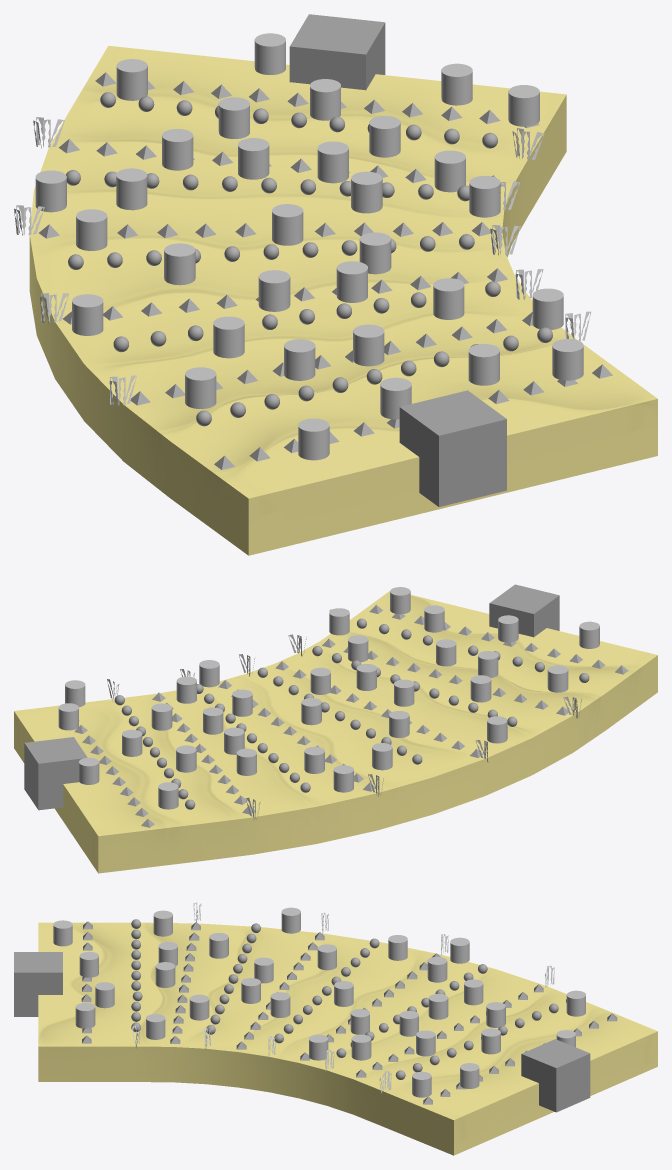
Rendered from assets007_Streckenteil_rechts001.fbx.
3 views of the same model, one above another, from view 1: azimuth 30°, elevation 25°; view 2: azimuth 150°, elevation 25°; view 3: azimuth 270°, elevation 25° (orthographic). The views are drawn at different scales.
Parts seen in each view (by area): view 1: streckenteil_rechtskurve_geo1, b (×12), a (×12), startpoint, c (×7), startpoint1, d; view 2: streckenteil_rechtskurve_geo1, a (×12), b (×12), c (×7), startpoint1, startpoint, d; view 3: streckenteil_rechtskurve_geo1, b (×12), a (×12), startpoint1, c (×6), startpoint, d.
Boxes of the visible parts, bbox=[...] form: streckenteil_rechtskurve_geo1: bbox=[29, 45, 657, 555]; b (×12): bbox=[35, 63, 500, 311]; a (×12): bbox=[72, 261, 583, 460]; startpoint: bbox=[399, 390, 506, 506]; c (×7): bbox=[116, 33, 539, 213]; startpoint1: bbox=[289, 14, 385, 90]; d: bbox=[369, 116, 400, 157]; streckenteil_rechtskurve_geo1: bbox=[14, 591, 657, 873]; a (×12): bbox=[329, 587, 599, 743]; b (×12): bbox=[58, 660, 414, 792]; c (×7): bbox=[65, 680, 256, 809]; startpoint1: bbox=[24, 737, 87, 810]; startpoint: bbox=[489, 584, 559, 637]; d: bbox=[151, 703, 172, 730]; streckenteil_rechtskurve_geo1: bbox=[38, 922, 657, 1155]; b (×12): bbox=[254, 935, 505, 1088]; a (×12): bbox=[53, 907, 300, 1039]; startpoint1: bbox=[521, 1039, 590, 1112]; c (×6): bbox=[350, 979, 585, 1097]; startpoint: bbox=[14, 952, 62, 1016]; d: bbox=[416, 1030, 435, 1056].
Bounding box in the file's own units: 48.67 × 6.68 × 65.87.
